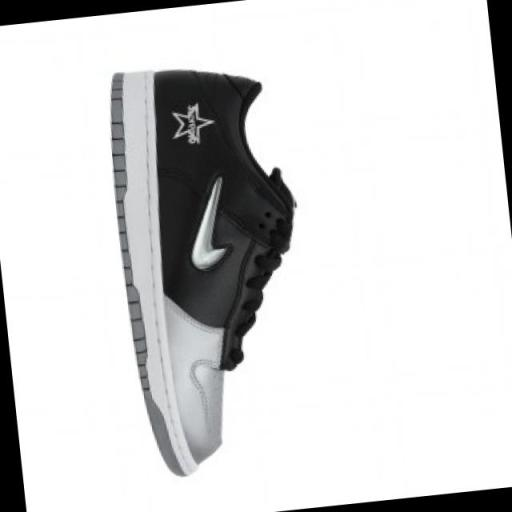Nike: (171, 168, 240, 278)
